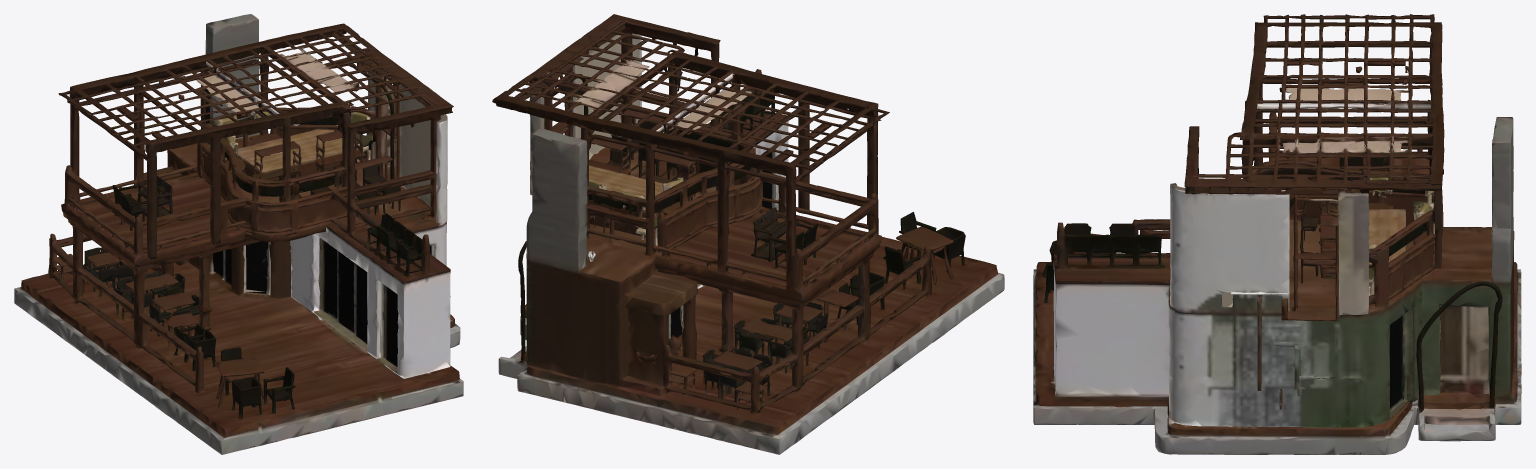
Rendered from egyptian-rowing-club-2.glb.
3 views of the same model, side by side, from view 1: azimuth 30°, elevation 25°; view 2: azimuth 150°, elevation 25°; view 3: azimuth 270°, elevation 25° (orthographic). The views are drawn at different scales.
Bounding box in the file's own units: 0.857 × 0.6295 × 1.
1 material, 1 textured.
